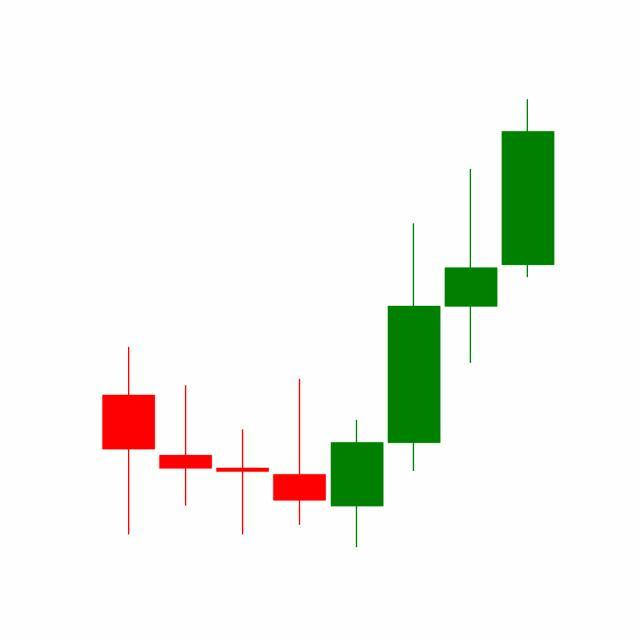Advance Block: (328, 165, 500, 549)
